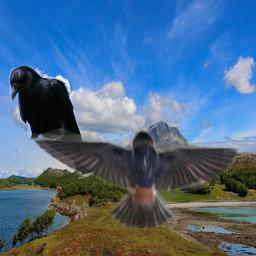Crow: (8, 65, 93, 180)
Swallow: (27, 127, 241, 231)
